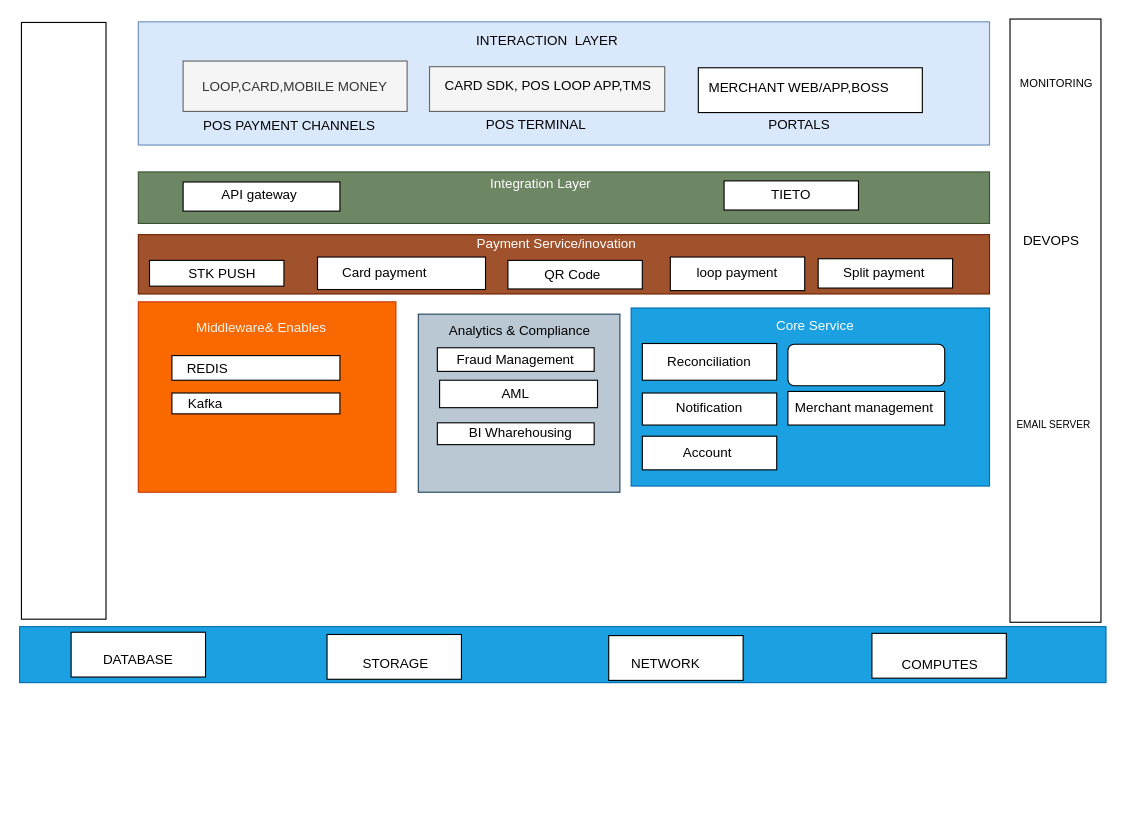
Image size: 1126x825. Some labels were removed from this diagram. Here are the shapes that lost their labels. From the top down, the centre of each, then its label:
At pixel 63 320: "IT SECURITY".
At pixel 866 364: "Product management".
